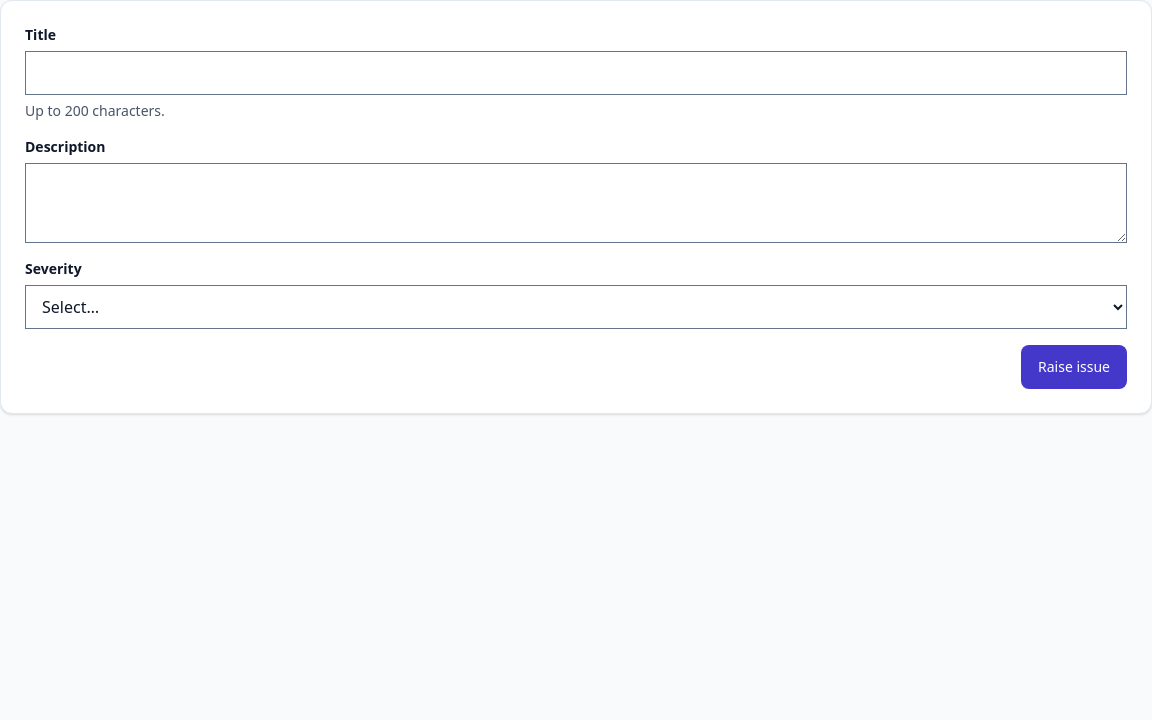
IssueForm › validates title, description and severity
What coordinates should you click on to do the following:
click the button "Raise issue"
I would click on:
 (1074, 367)
Its box is [1021, 345, 1127, 389].
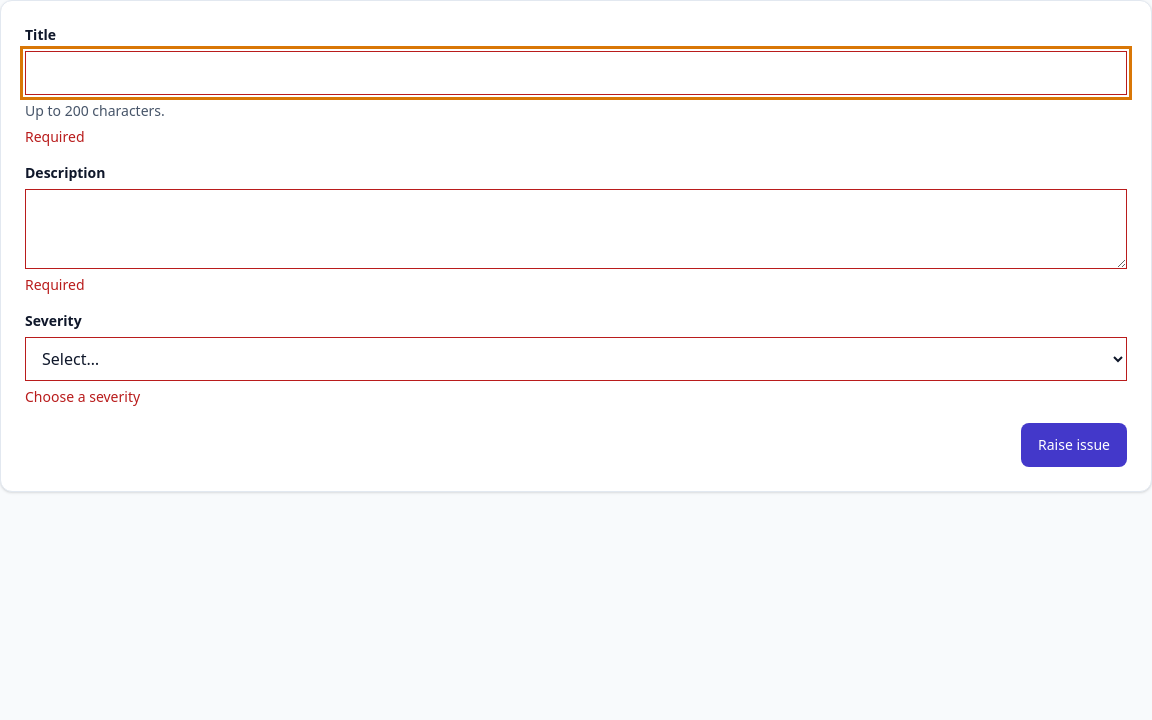
Result: the text "Choose a severity" is shown at [25, 387, 140, 406]
Result: the text "Required" is shown 2 times at [25, 127, 84, 146]; [25, 275, 84, 294]
